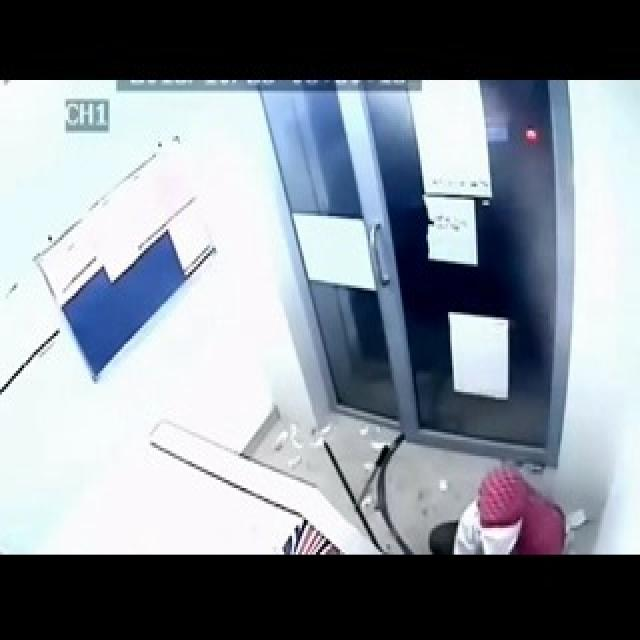thief: (442, 470, 562, 550)
